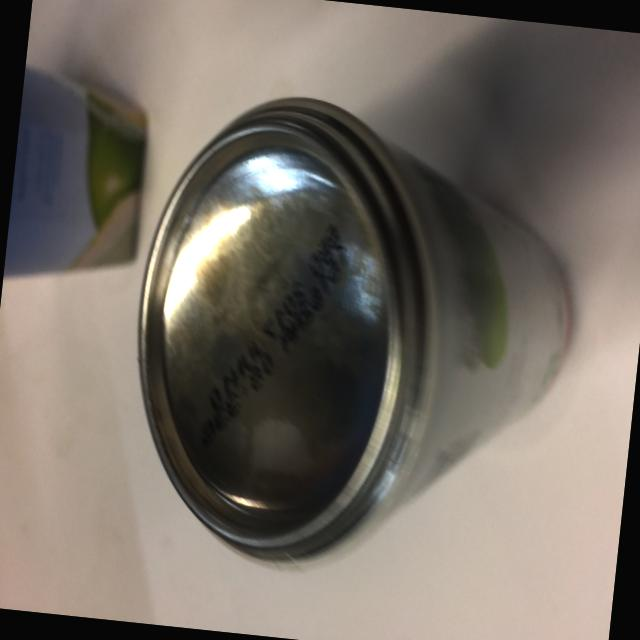Metal: (100, 70, 613, 610)
